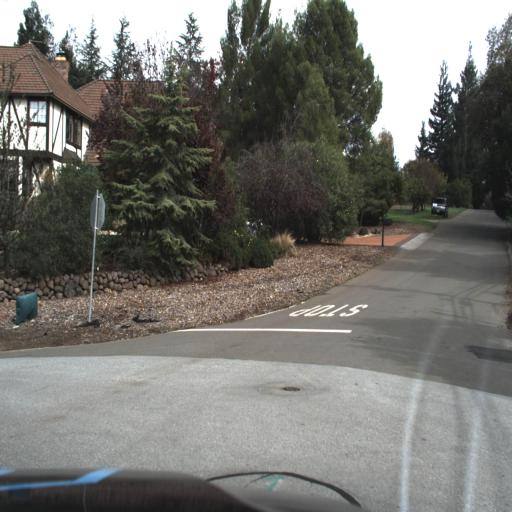car: (430, 197, 449, 217)
